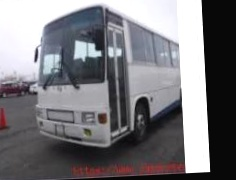bus: (28, 0, 184, 155)
